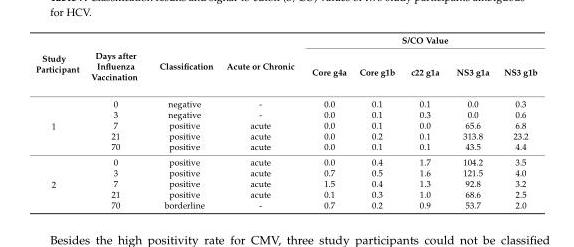table: (34, 34, 536, 209)
table column: (219, 34, 302, 209), (147, 34, 219, 209), (84, 34, 147, 209), (34, 34, 84, 209), (302, 34, 352, 209), (352, 34, 402, 209), (447, 34, 495, 209), (402, 34, 447, 209), (495, 34, 536, 209)
table column header: (34, 34, 536, 89)
table row: (34, 47, 536, 89), (34, 89, 536, 108), (34, 34, 536, 47), (34, 140, 536, 153), (34, 153, 536, 166), (34, 108, 536, 119), (34, 119, 536, 130), (34, 166, 536, 177), (34, 177, 536, 188), (34, 188, 536, 199), (34, 130, 536, 140), (34, 199, 536, 209)
table spanning cell: (219, 34, 302, 89), (147, 34, 219, 89), (84, 34, 147, 89), (34, 89, 84, 153), (302, 34, 536, 47), (34, 153, 84, 209), (34, 34, 84, 89)
